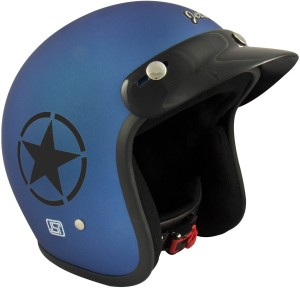with_helmet: (4, 1, 286, 281)
